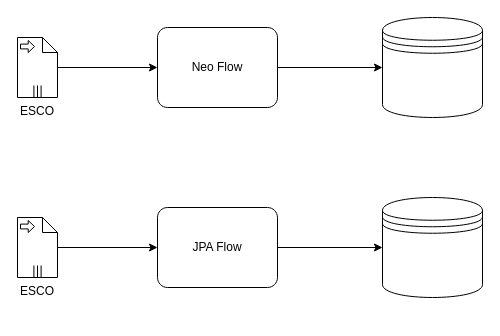
This 500x336 diagram has some shape labels left out. The shapes that lost their labels are listed below. From the top down, each one's box as (x1, y1, x2, y2) in pixels, then its label:
(382, 16, 482, 118): Neo4J
(382, 196, 482, 298): RDBMS
